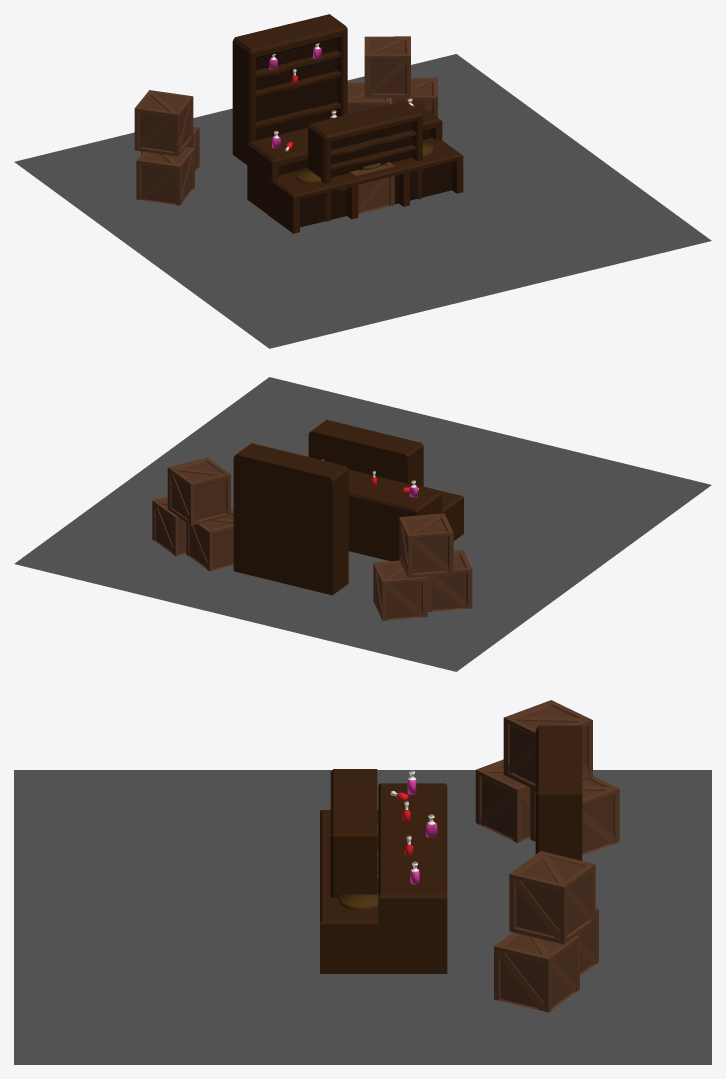
Rendered from InteriorPack.glb.
The picture shows the model from 3 angles, top to bottom: view 1: azimuth 30°, elevation 25°; view 2: azimuth 150°, elevation 25°; view 3: azimuth 270°, elevation 25°; orthographic projection. The views are drawn at different scales.
Parts seen in each view (by area): view 1: Plane, Storage, Counter, Cube, Counter.002, Crate.005, Crate.002, Crate.003, Crate, Crate.001, Crate.007; view 2: Plane, Storage, Counter.002, Cube, Crate.002, Crate.005, Crate.004, Crate.007, Crate.003, Crate.001, Counter; view 3: Plane, Counter.002, Crate.002, Storage, Cube, Crate.001, Counter, Crate.005, Crate.003, Crate.004, Crate.007, Tabouret.001.
Boxes of the visible parts, bbox=[...] form: Plane: bbox=[14, 54, 711, 348]; Storage: bbox=[232, 14, 347, 164]; Counter: bbox=[268, 138, 463, 233]; Cube: bbox=[308, 100, 422, 221]; Counter.002: bbox=[247, 101, 442, 214]; Crate.005: bbox=[134, 90, 193, 156]; Crate.002: bbox=[364, 36, 410, 97]; Crate.003: bbox=[136, 147, 194, 205]; Crate: bbox=[349, 162, 394, 213]; Crate.001: bbox=[391, 77, 437, 117]; Crate.007: bbox=[347, 82, 389, 114]; Plane: bbox=[14, 377, 711, 671]; Storage: bbox=[233, 443, 348, 595]; Counter.002: bbox=[348, 469, 442, 561]; Cube: bbox=[308, 420, 423, 487]; Crate.002: bbox=[167, 457, 230, 525]; Crate.005: bbox=[399, 513, 453, 577]; Crate.004: bbox=[373, 560, 427, 620]; Crate.007: bbox=[186, 509, 233, 571]; Crate.003: bbox=[427, 550, 472, 611]; Crate.001: bbox=[152, 496, 186, 556]; Counter: bbox=[423, 486, 463, 540]; Plane: bbox=[14, 770, 711, 1064]; Counter.002: bbox=[378, 783, 447, 973]; Crate.002: bbox=[509, 851, 595, 944]; Storage: bbox=[535, 725, 582, 860]; Cube: bbox=[330, 769, 377, 897]; Crate.001: bbox=[494, 932, 579, 1012]; Counter: bbox=[320, 810, 378, 973]; Crate.005: bbox=[503, 700, 592, 789]; Crate.003: bbox=[475, 759, 530, 842]; Crate.004: bbox=[530, 776, 619, 855]; Crate.007: bbox=[577, 908, 598, 975]; Tabouret.001: bbox=[338, 892, 378, 910].
Bounding box in the file's own units: 11.71 × 3.04 × 11.71.
